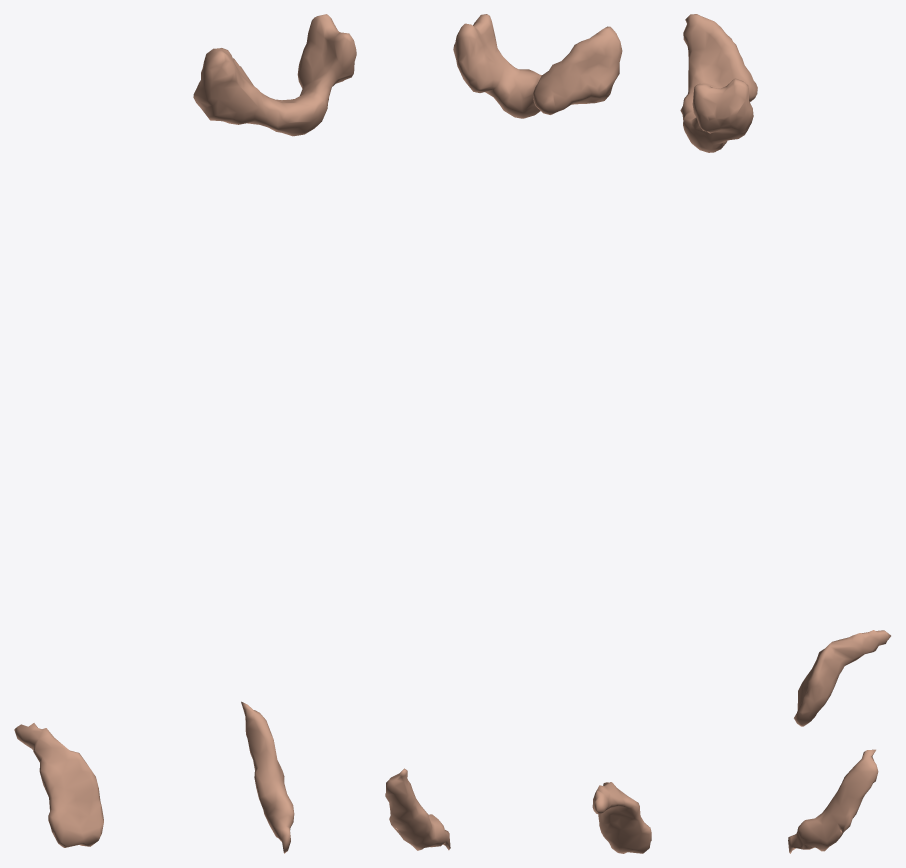
The model's file is tsd_s0196_older_adult_female.endocrine.LOD1.glb.
3 renders of one model, left to right at view 1: azimuth 30°, elevation 25°; view 2: azimuth 150°, elevation 25°; view 3: azimuth 270°, elevation 25°, orthographic. The views are drawn at different scales.
Parts seen in each view (by area): view 1: TSD_S0196.OLDER_ADULT.FEMALE.ENDOCRINE.THYROID_GLAND, TSD_S0196.OLDER_ADULT.FEMALE.ENDOCRINE.ADRENAL_GLAND.R, TSD_S0196.OLDER_ADULT.FEMALE.ENDOCRINE.ADRENAL_GLAND.L; view 2: TSD_S0196.OLDER_ADULT.FEMALE.ENDOCRINE.THYROID_GLAND, TSD_S0196.OLDER_ADULT.FEMALE.ENDOCRINE.ADRENAL_GLAND.R, TSD_S0196.OLDER_ADULT.FEMALE.ENDOCRINE.ADRENAL_GLAND.L; view 3: TSD_S0196.OLDER_ADULT.FEMALE.ENDOCRINE.THYROID_GLAND, TSD_S0196.OLDER_ADULT.FEMALE.ENDOCRINE.ADRENAL_GLAND.L, TSD_S0196.OLDER_ADULT.FEMALE.ENDOCRINE.ADRENAL_GLAND.R.
Part boxes in pixels (<box>): TSD_S0196.OLDER_ADULT.FEMALE.ENDOCRINE.THYROID_GLAND: <box>193,14,356,136</box>; TSD_S0196.OLDER_ADULT.FEMALE.ENDOCRINE.ADRENAL_GLAND.R: <box>14,723,103,847</box>; TSD_S0196.OLDER_ADULT.FEMALE.ENDOCRINE.ADRENAL_GLAND.L: <box>241,701,294,853</box>; TSD_S0196.OLDER_ADULT.FEMALE.ENDOCRINE.THYROID_GLAND: <box>453,14,622,118</box>; TSD_S0196.OLDER_ADULT.FEMALE.ENDOCRINE.ADRENAL_GLAND.R: <box>592,782,651,853</box>; TSD_S0196.OLDER_ADULT.FEMALE.ENDOCRINE.ADRENAL_GLAND.L: <box>385,768,450,850</box>; TSD_S0196.OLDER_ADULT.FEMALE.ENDOCRINE.THYROID_GLAND: <box>680,14,757,152</box>; TSD_S0196.OLDER_ADULT.FEMALE.ENDOCRINE.ADRENAL_GLAND.L: <box>788,749,878,853</box>; TSD_S0196.OLDER_ADULT.FEMALE.ENDOCRINE.ADRENAL_GLAND.R: <box>794,630,890,726</box>.
Size of the model in its own units: 0.081 by 0.262 by 0.0636.
